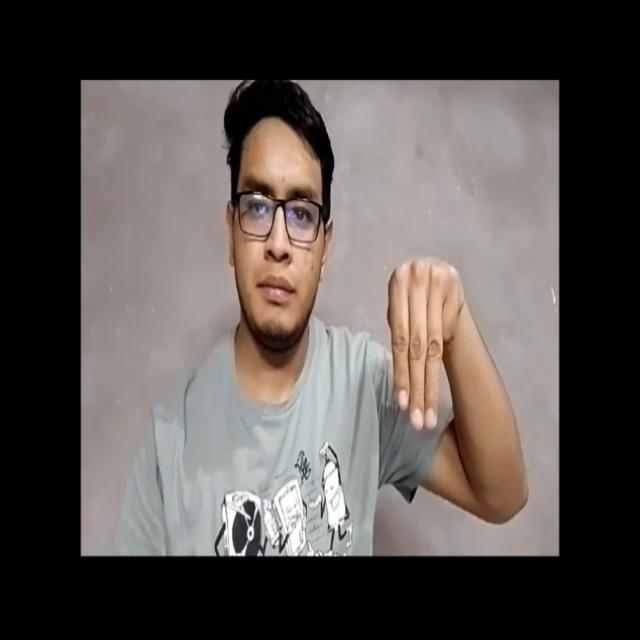M: (372, 252, 472, 442)
